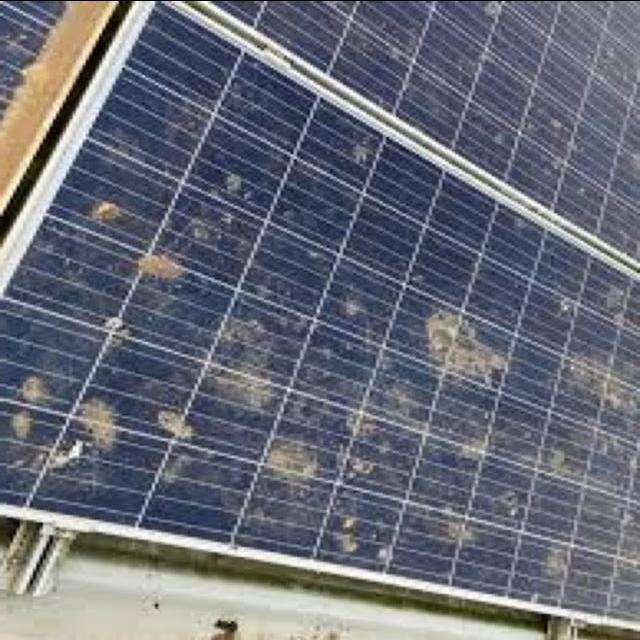soiled: (0, 2, 637, 608)
